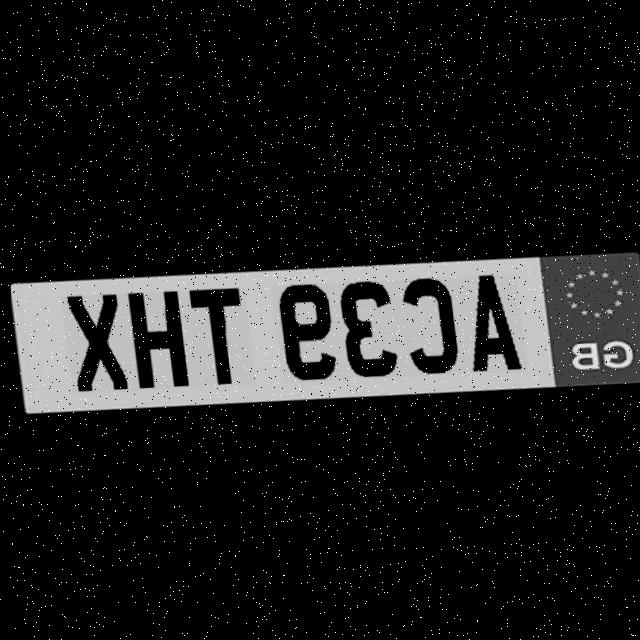license-plates: (10, 254, 640, 412)
